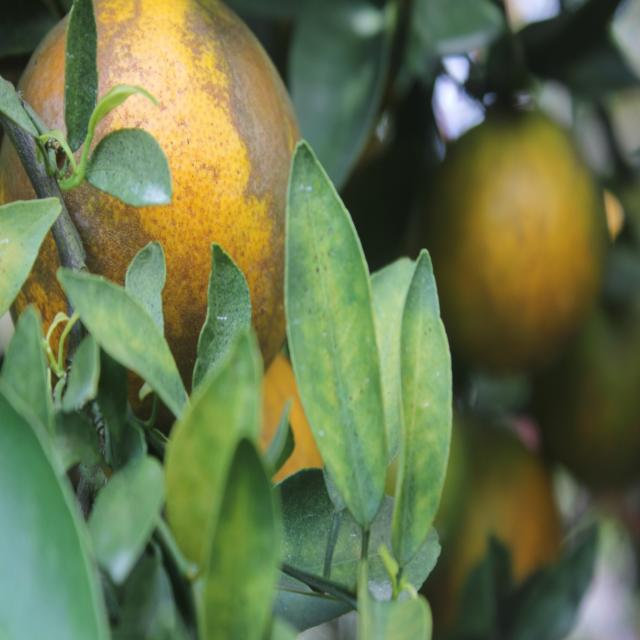blackspot: (293, 201, 384, 507), (406, 290, 445, 516), (96, 135, 172, 202), (66, 5, 97, 133)
